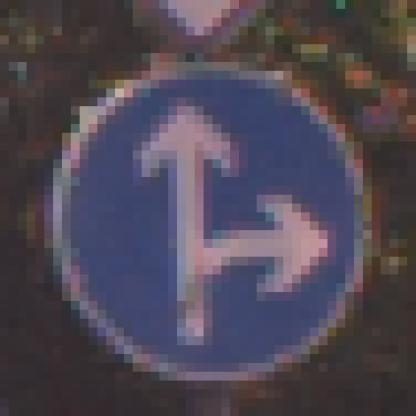Straight or Right: (45, 54, 364, 373)
